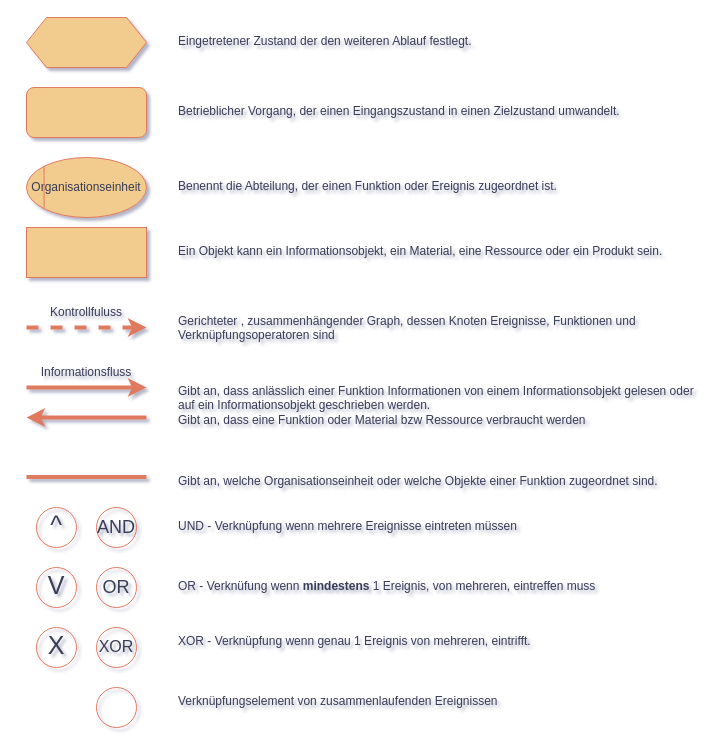
Some shapes in this 719 by 751 pixel diagram are drawn without their labels. The shapes that lost their labels are listed below. From the top down, each one's centre as x and y in pixels, then its label:
pixel 86 42: Ereignis
pixel 86 112: Funtkion
pixel 86 252: Objekt
